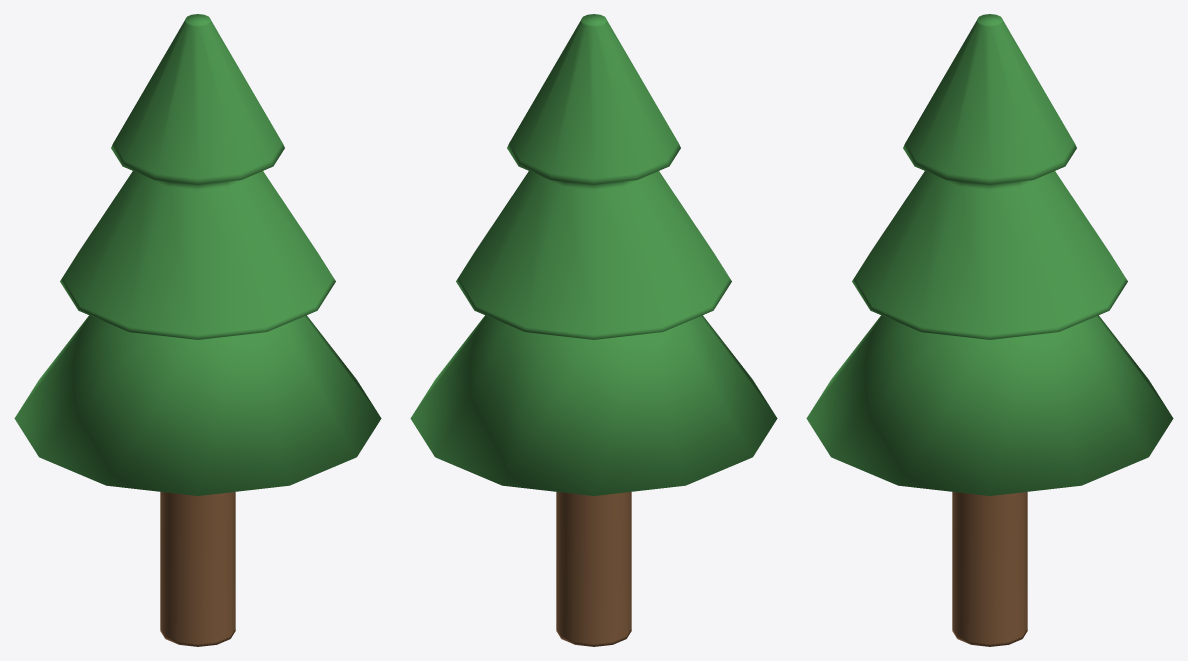
The model's file is tree3.fbx.
3 renders of one model, left to right at view 1: azimuth 30°, elevation 25°; view 2: azimuth 150°, elevation 25°; view 3: azimuth 270°, elevation 25°, orthographic.
Visible parts, largest first — view 1: Tree1; view 2: Tree1; view 3: Tree1.
Boxes of the visible parts, <box> form: Tree1: <box>14,14,381,646</box>; Tree1: <box>410,14,777,646</box>; Tree1: <box>806,14,1173,646</box>.
Size of the model in its own units: 465 by 855 by 465.
